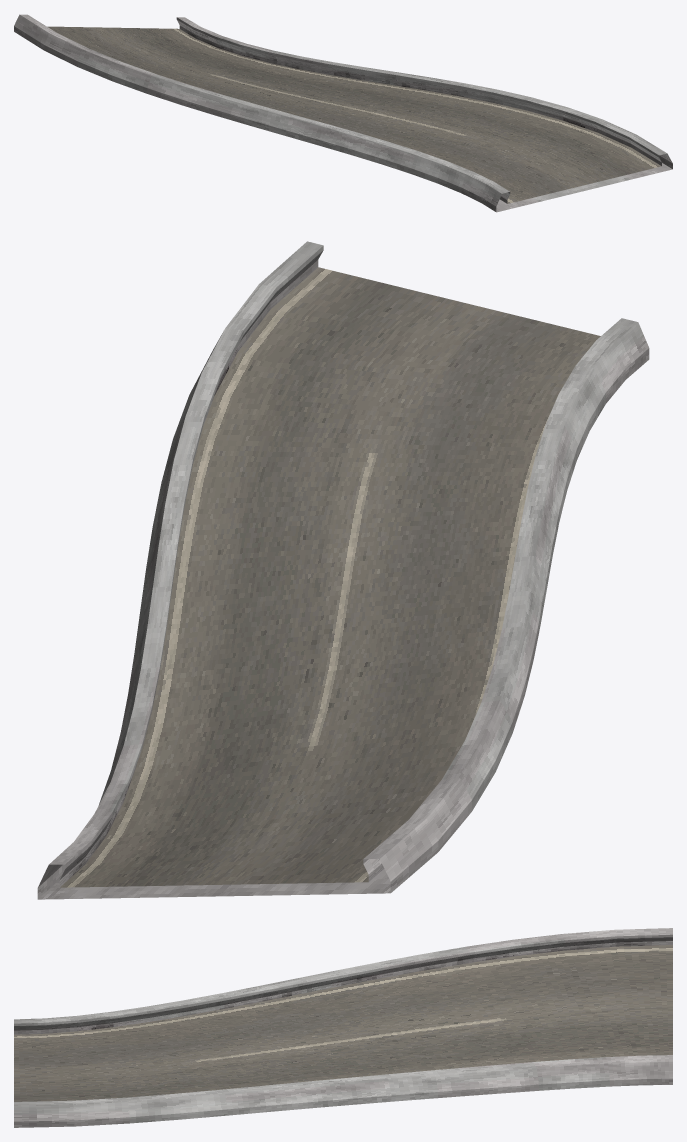
The model's file is chicane-left1x3.glb.
3 renders of one model, top to bottom at view 1: azimuth 30°, elevation 25°; view 2: azimuth 150°, elevation 25°; view 3: azimuth 270°, elevation 25°, orthographic. The views are drawn at different scales.
Visible parts, largest first — view 1: road-Chicane-Flat-HalfBankedRight-Down1-Left1-Size3; view 2: road-Chicane-Flat-HalfBankedRight-Down1-Left1-Size3; view 3: road-Chicane-Flat-HalfBankedRight-Down1-Left1-Size3.
Part boxes in pixels (<box>): road-Chicane-Flat-HalfBankedRight-Down1-Left1-Size3: <box>14,14,672,212</box>; road-Chicane-Flat-HalfBankedRight-Down1-Left1-Size3: <box>37,241,649,899</box>; road-Chicane-Flat-HalfBankedRight-Down1-Left1-Size3: <box>14,928,672,1127</box>.
Bounding box in the file's own units: 2 × 0.3438 × 3.
2 materials, 2 textured.
